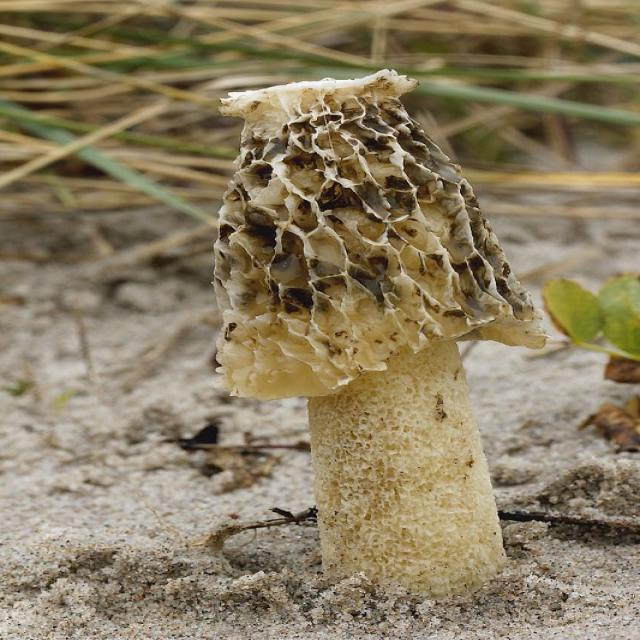Dictyophora indusiate: (208, 73, 561, 599)
